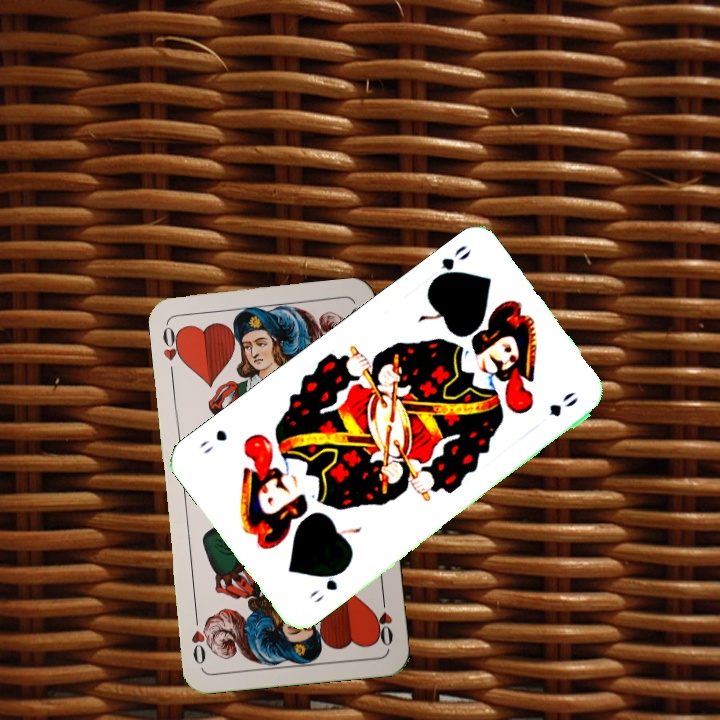GO: (426, 241, 474, 287), (304, 564, 349, 606)
HO: (158, 320, 186, 379), (370, 591, 396, 649)
